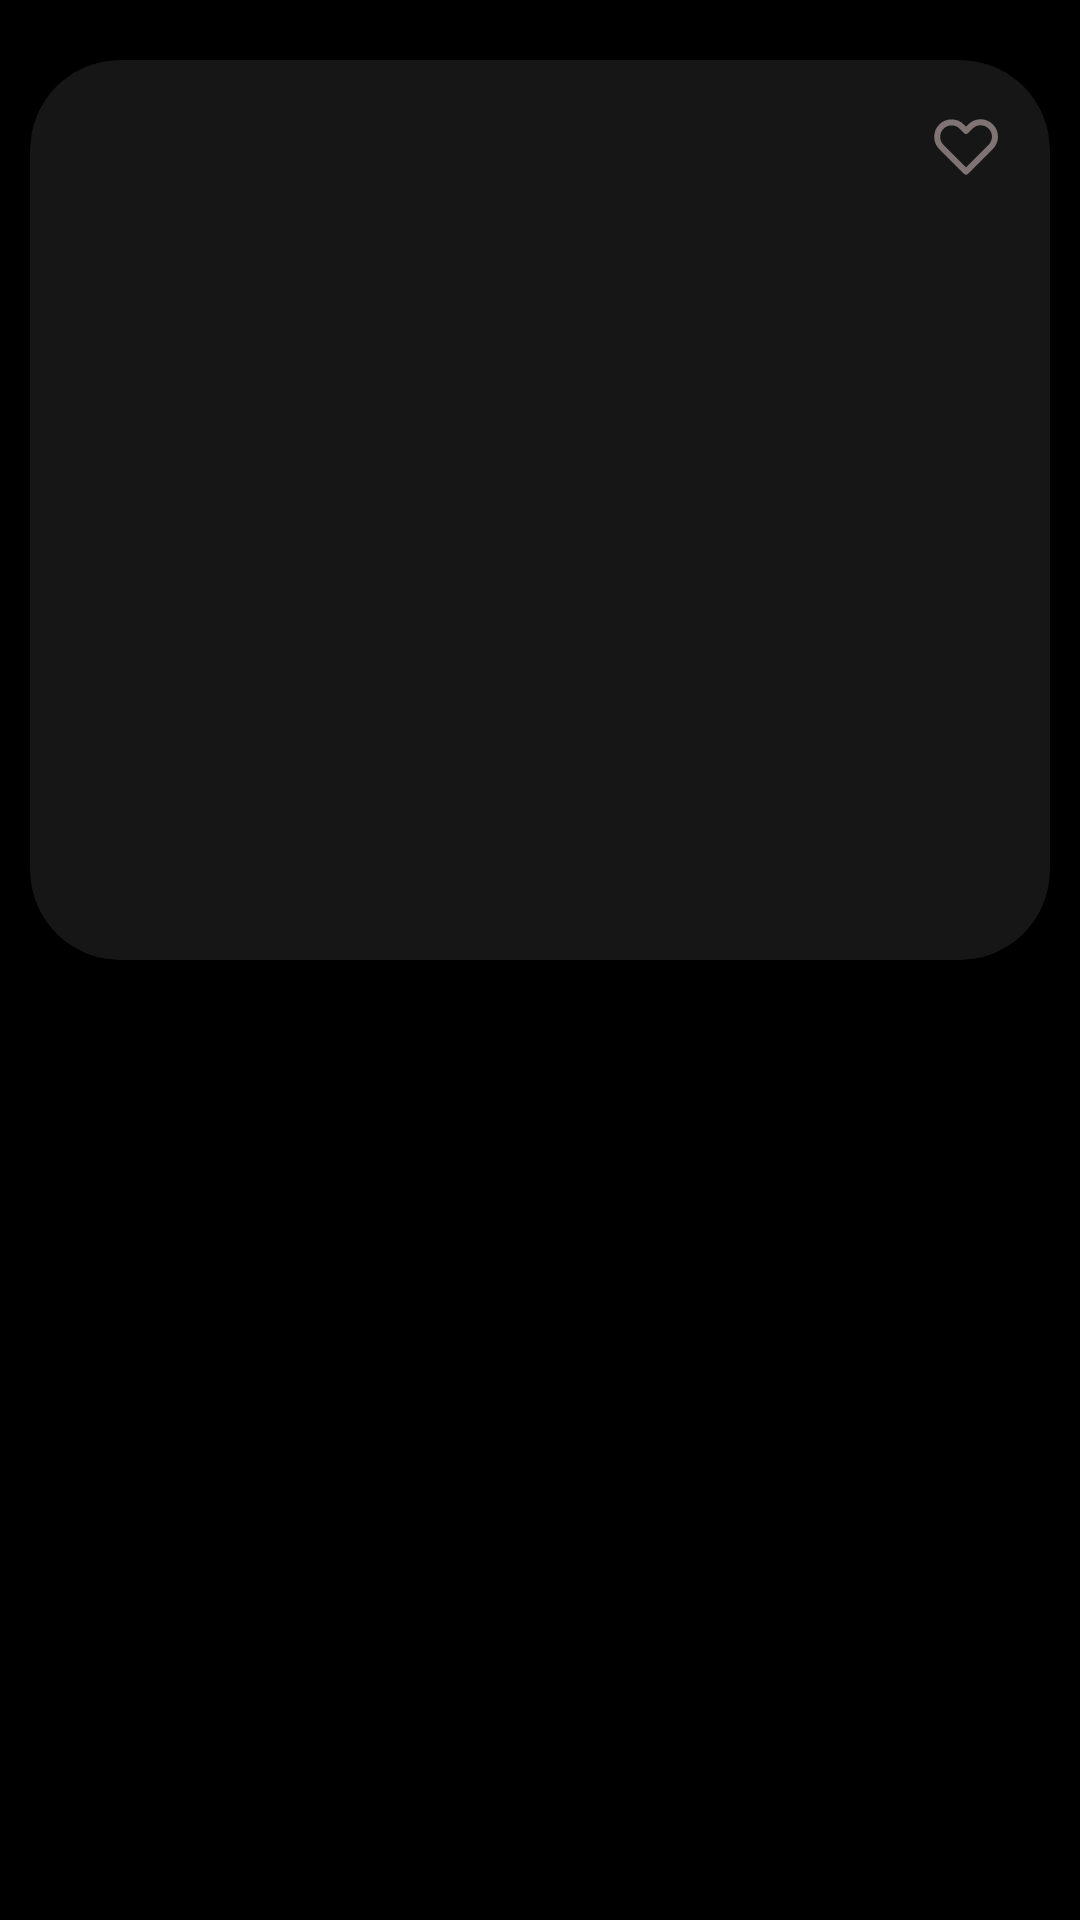

Where icons sit on this 1080x1920 app screen, as (x1, y1, x2, y2):
heart: (934, 119, 998, 175)
